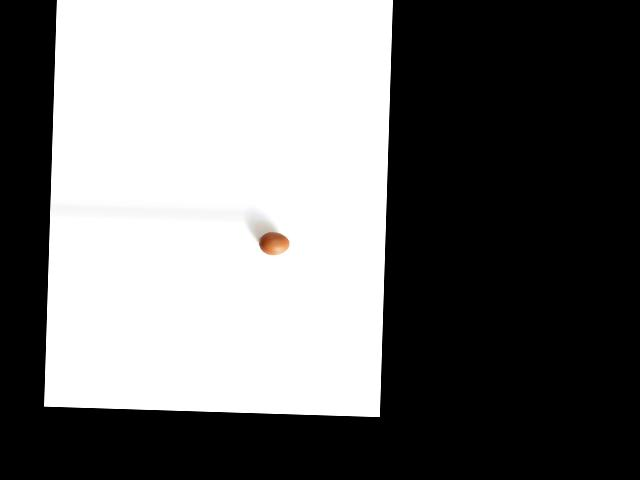egg: (258, 232, 289, 255)
